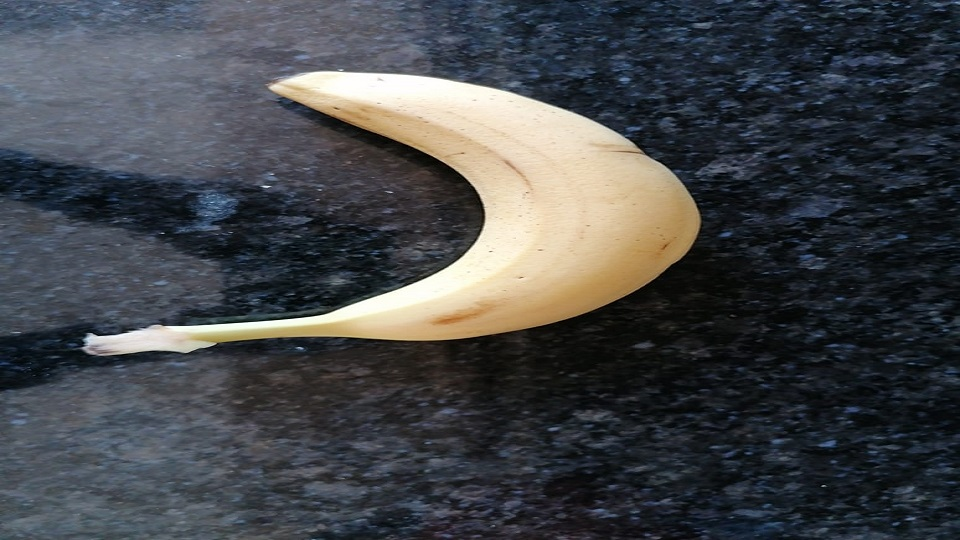muz: (82, 69, 704, 358)
